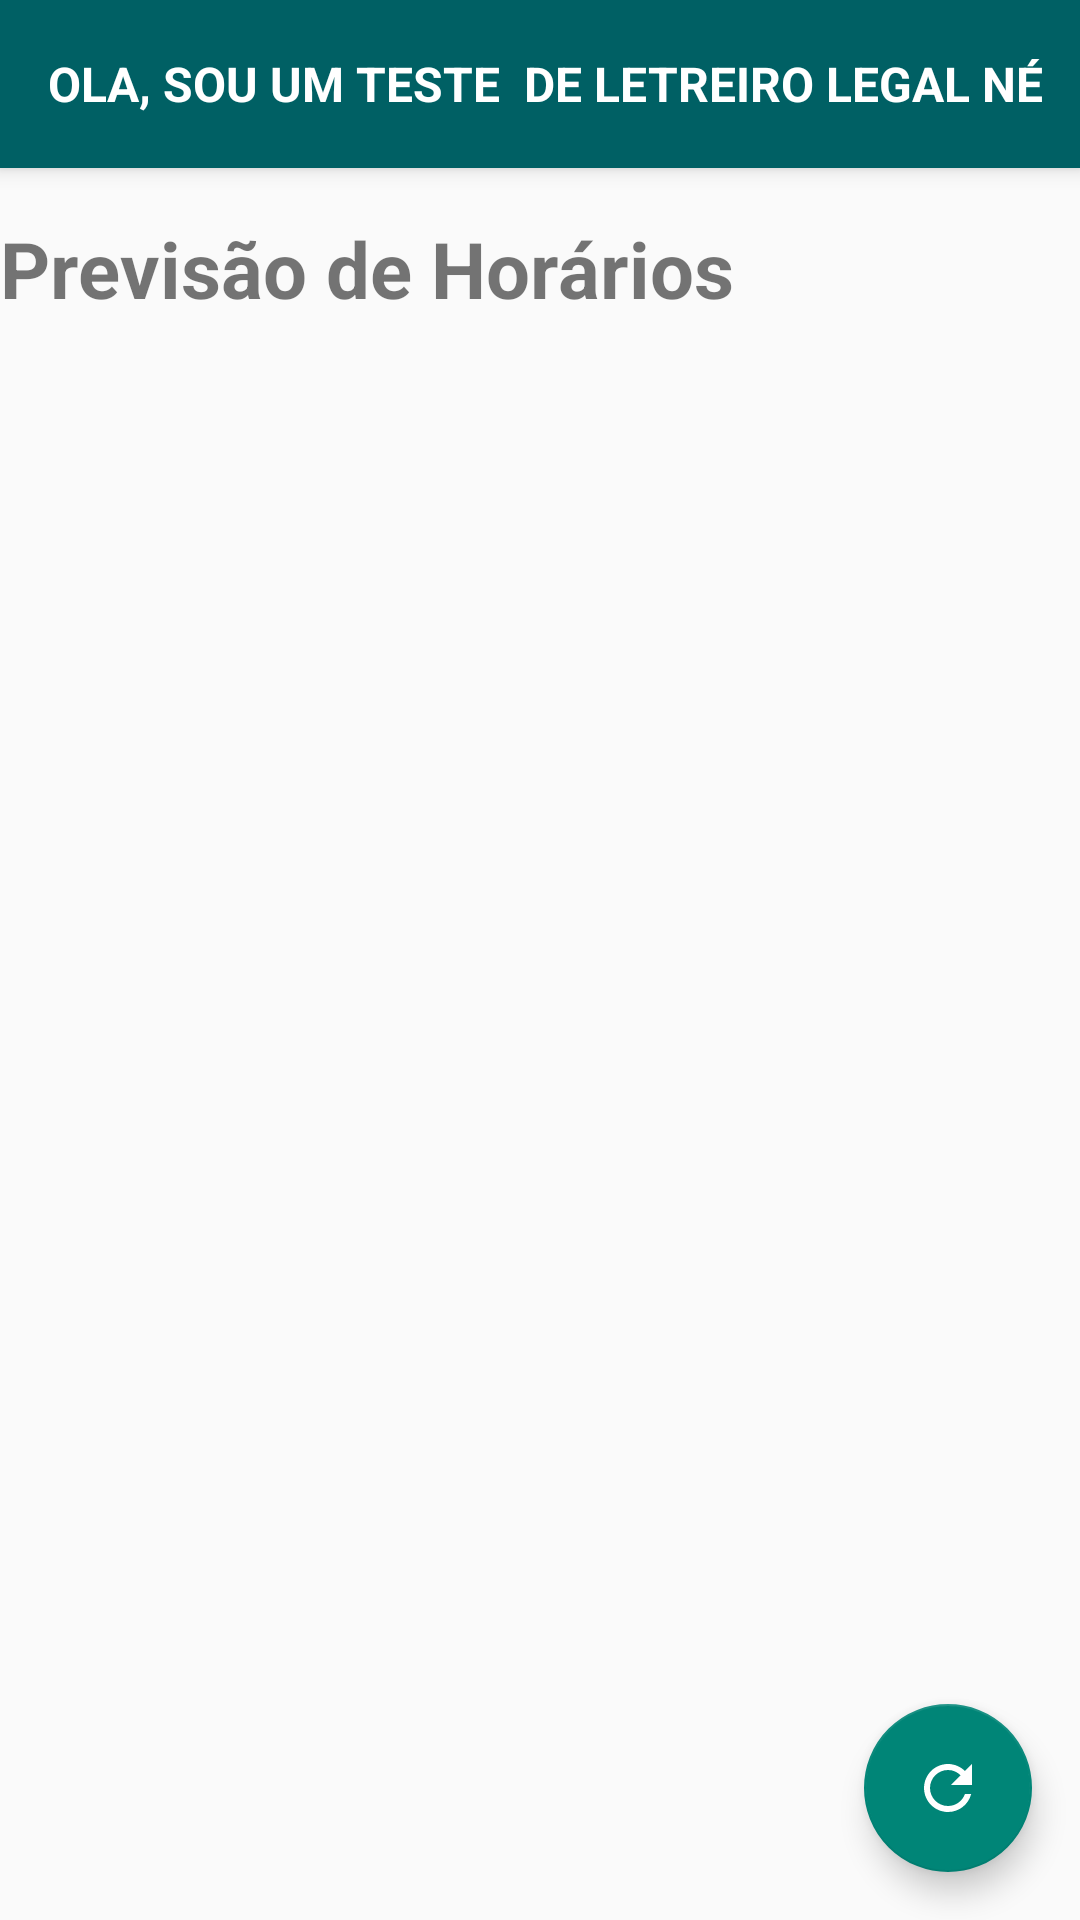

Icon bounding boxes for this 1080w x 1920h phone screenshot, format (x1, y1, x2, y2):
refresh: (864, 1704, 1032, 1872)
